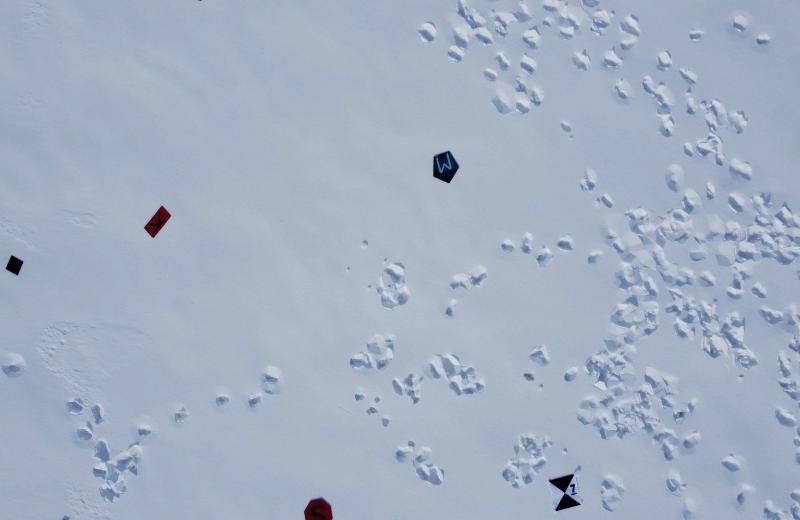Octagon: (299, 493, 337, 520)
Pentagon: (428, 149, 462, 187)
Rectangle: (141, 200, 173, 242)
Square: (1, 253, 29, 280)
